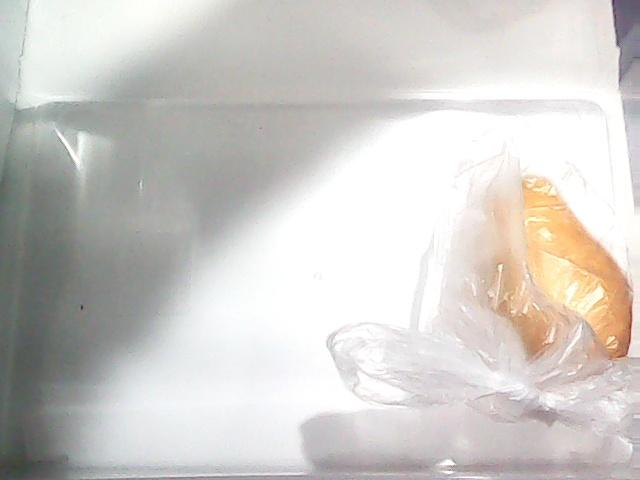mango: (442, 145, 638, 382)
